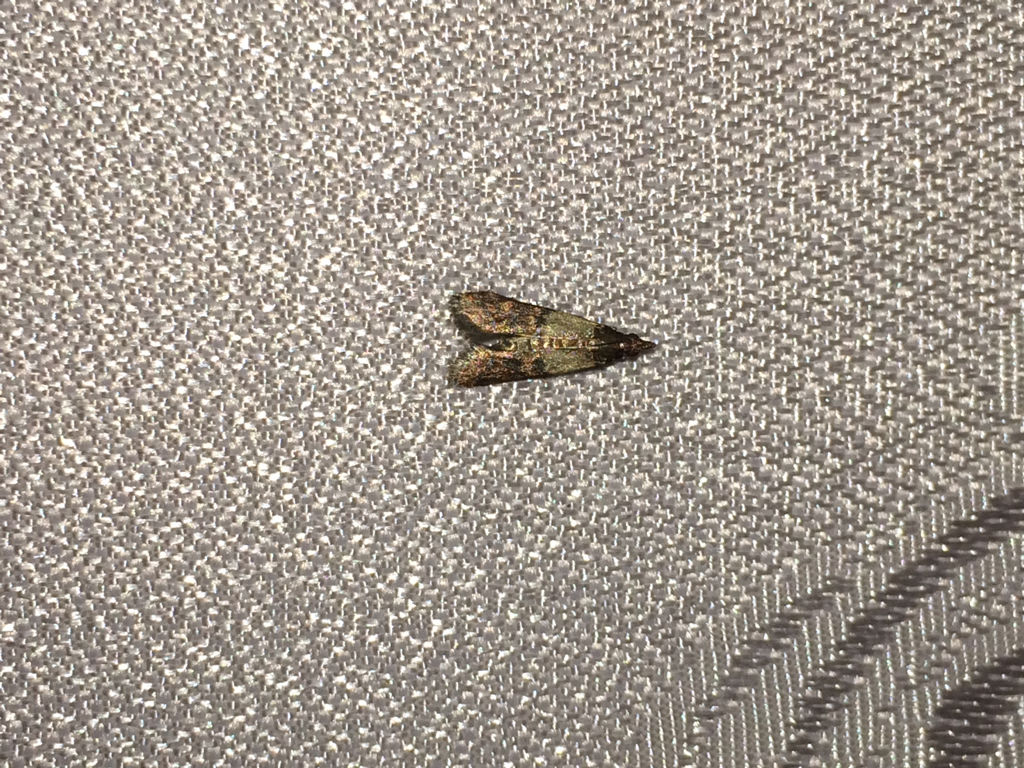feie: (431, 278, 668, 405)
